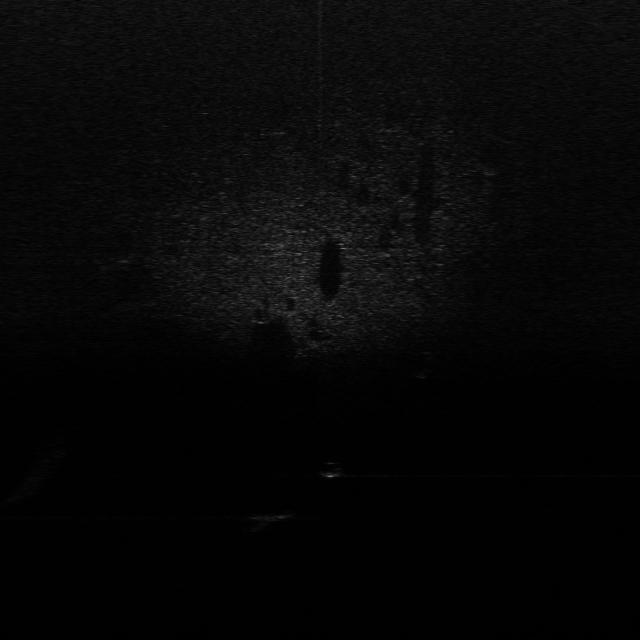ball: (320, 460, 350, 480)
square cage: (246, 508, 302, 529)
tyre: (413, 349, 441, 380)
